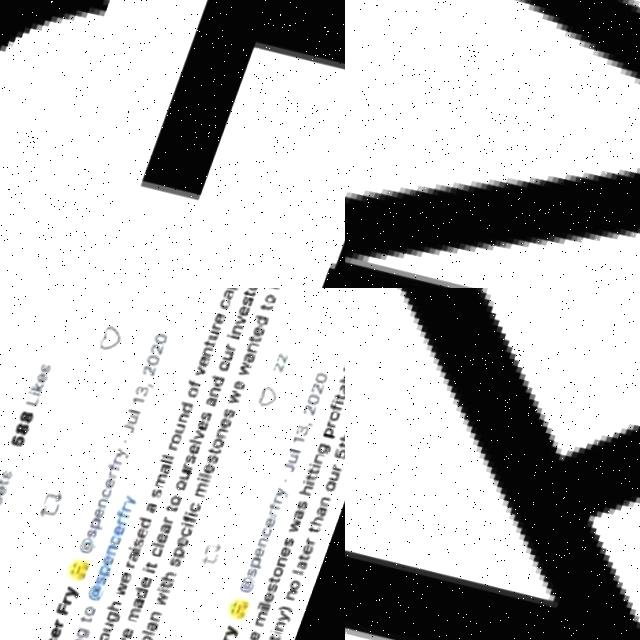0: (157, 334, 174, 347), (318, 375, 335, 388), (149, 356, 166, 368), (311, 396, 328, 408)
1: (137, 398, 153, 408), (298, 439, 313, 448)
2: (146, 366, 163, 379), (153, 345, 170, 358), (307, 407, 324, 419), (314, 386, 331, 398), (276, 364, 291, 376), (279, 355, 294, 367)
3: (301, 426, 318, 440), (140, 387, 157, 399)
5: (17, 434, 34, 447), (339, 450, 345, 462)
8: (20, 420, 38, 437), (24, 410, 42, 425)
A: (152, 503, 167, 516), (300, 510, 315, 523), (248, 353, 261, 366), (136, 553, 149, 565), (167, 465, 180, 477), (168, 524, 181, 536), (157, 622, 170, 634), (324, 508, 337, 520), (226, 291, 239, 302), (143, 599, 156, 610), (212, 398, 225, 409), (306, 562, 318, 573)
C: (160, 548, 173, 560), (197, 503, 210, 515), (269, 528, 282, 540), (108, 488, 120, 500), (188, 528, 200, 540), (223, 300, 236, 311), (118, 536, 130, 547), (57, 637, 69, 640)
D: (143, 587, 160, 601), (183, 402, 200, 415), (145, 518, 162, 531), (257, 316, 274, 329), (213, 377, 230, 389)
E: (255, 327, 270, 340), (60, 627, 72, 640), (129, 574, 142, 586), (145, 529, 158, 541), (195, 445, 208, 457), (0, 495, 12, 507), (4, 484, 16, 496), (103, 509, 115, 521), (112, 478, 124, 490), (122, 526, 134, 538), (150, 579, 162, 591), (164, 534, 176, 546), (185, 538, 197, 550), (210, 465, 222, 477), (272, 594, 284, 606), (311, 547, 323, 559), (41, 373, 54, 384), (111, 556, 124, 567), (203, 358, 216, 369), (217, 316, 230, 327), (132, 629, 145, 640), (203, 422, 216, 433), (225, 420, 238, 431), (238, 382, 251, 393), (243, 308, 255, 319), (263, 549, 275, 560), (273, 519, 285, 530), (288, 548, 300, 559), (259, 632, 272, 640)
F: (65, 605, 82, 617), (114, 463, 129, 473), (275, 504, 290, 514), (123, 512, 139, 521), (189, 517, 205, 526), (192, 381, 207, 390), (335, 405, 345, 414)
G: (0, 0, 345, 288), (115, 612, 132, 626), (84, 627, 101, 640), (322, 446, 339, 458)
H: (305, 486, 322, 500), (169, 572, 186, 585), (316, 517, 333, 530), (115, 601, 132, 613), (268, 288, 285, 292)
I: (230, 334, 247, 343), (33, 390, 49, 398), (188, 522, 204, 530), (191, 512, 207, 520), (150, 568, 165, 576), (166, 587, 181, 595), (265, 607, 281, 614), (203, 478, 218, 485), (309, 481, 324, 488), (315, 465, 330, 472), (280, 631, 295, 638), (136, 546, 150, 553), (336, 399, 345, 408)
J: (287, 465, 304, 478), (126, 424, 143, 436)
K: (345, 288, 640, 640), (35, 381, 52, 394)
L: (31, 396, 46, 408), (150, 630, 167, 638), (267, 603, 283, 611), (165, 459, 181, 466), (204, 475, 220, 482), (167, 456, 182, 463), (300, 571, 315, 578), (294, 451, 309, 457), (134, 411, 148, 417), (194, 440, 208, 446), (159, 544, 173, 549)
M: (345, 0, 640, 288), (202, 483, 216, 501), (137, 609, 151, 626), (265, 612, 279, 629), (162, 475, 175, 491)
N: (294, 592, 307, 605), (266, 538, 279, 550), (114, 545, 126, 557), (251, 344, 263, 356), (328, 498, 340, 510), (222, 430, 235, 441), (285, 559, 298, 570), (105, 499, 117, 510), (185, 414, 196, 426), (207, 348, 219, 359), (214, 389, 226, 400), (159, 613, 171, 624), (285, 624, 297, 635), (236, 326, 247, 337), (320, 457, 331, 468), (82, 637, 94, 640)
O: (298, 581, 311, 594), (183, 482, 196, 494), (224, 362, 237, 374), (282, 568, 295, 580), (332, 483, 345, 495), (94, 606, 106, 618), (177, 434, 189, 446), (219, 439, 231, 451), (178, 497, 191, 508), (267, 296, 280, 307), (193, 389, 205, 400), (334, 413, 345, 424), (108, 632, 121, 640), (250, 288, 262, 294)
P: (106, 566, 123, 580), (258, 559, 275, 572), (181, 549, 198, 561), (98, 519, 113, 532), (329, 429, 344, 442), (228, 288, 245, 293), (151, 636, 166, 640)
R: (71, 597, 83, 608), (172, 517, 184, 526), (230, 344, 241, 353), (276, 512, 287, 521), (119, 458, 131, 466), (134, 562, 146, 570), (215, 325, 227, 333), (190, 464, 202, 472), (64, 620, 75, 628), (115, 472, 126, 480), (129, 506, 140, 514), (174, 445, 185, 453), (281, 499, 292, 507), (314, 540, 325, 548), (125, 520, 135, 528), (332, 423, 342, 431), (339, 466, 345, 474), (232, 638, 244, 640)
S: (245, 298, 260, 310), (158, 489, 171, 502), (7, 470, 20, 482), (229, 409, 242, 421), (255, 569, 268, 581), (276, 584, 289, 596), (206, 412, 218, 424), (94, 529, 107, 540), (192, 455, 205, 466), (178, 558, 191, 569), (291, 539, 304, 550), (305, 502, 318, 513), (45, 364, 57, 375), (104, 577, 116, 588), (214, 455, 226, 466), (142, 539, 153, 550)
T: (3, 478, 19, 487), (214, 448, 228, 458), (252, 337, 266, 347), (316, 527, 330, 537), (90, 616, 104, 625), (154, 562, 168, 571), (173, 505, 187, 514), (246, 291, 260, 300), (168, 582, 182, 591), (312, 475, 326, 484), (306, 555, 320, 564), (263, 305, 277, 314), (208, 340, 221, 349), (278, 578, 291, 587), (314, 470, 327, 479), (278, 635, 292, 640), (339, 394, 345, 403), (0, 516, 4, 529)
U: (227, 352, 240, 364), (113, 622, 125, 634), (133, 415, 145, 427), (180, 425, 193, 436), (212, 332, 225, 343), (186, 472, 199, 483), (295, 456, 307, 467), (335, 473, 345, 484)
V: (199, 368, 212, 379), (239, 318, 251, 329), (200, 432, 212, 443)
W: (296, 519, 311, 538), (233, 390, 248, 408), (243, 362, 257, 380), (124, 583, 139, 599), (165, 593, 179, 609), (0, 503, 9, 520)
Y: (74, 586, 91, 600), (283, 488, 300, 502), (131, 496, 148, 509), (235, 627, 252, 640), (287, 613, 304, 626), (121, 449, 138, 461)
